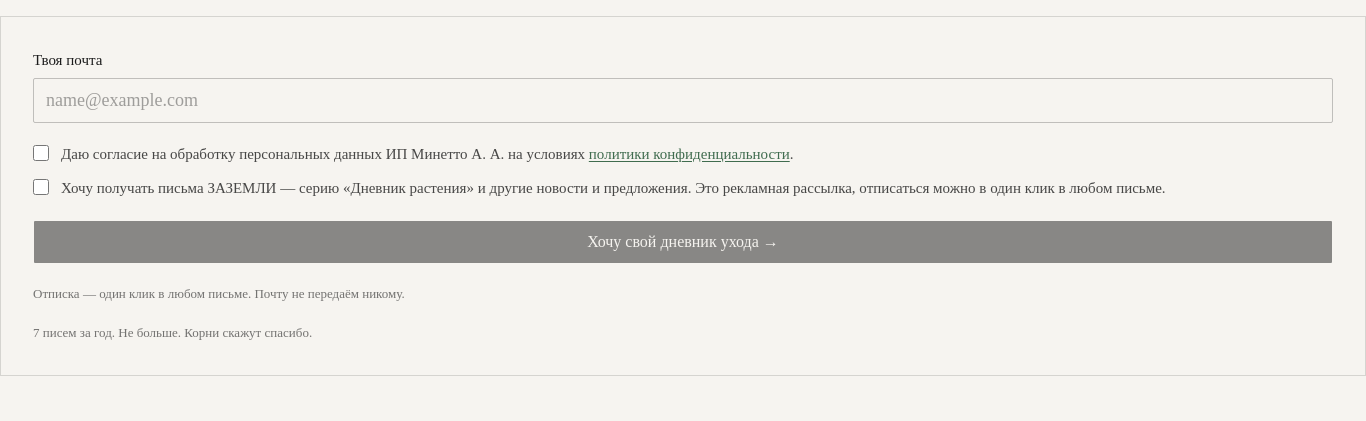
Scenario: SignupForm — валидация и согласия (task 2.2) › валидный email на blur → ok-микрокопи и aria-invalid=false
The width and height of the screenshot is (1366, 421).
Type "me@example.com" into the field labelled "Твоя почта" at (683, 100), box left=33, top=78, right=1333, bottom=122
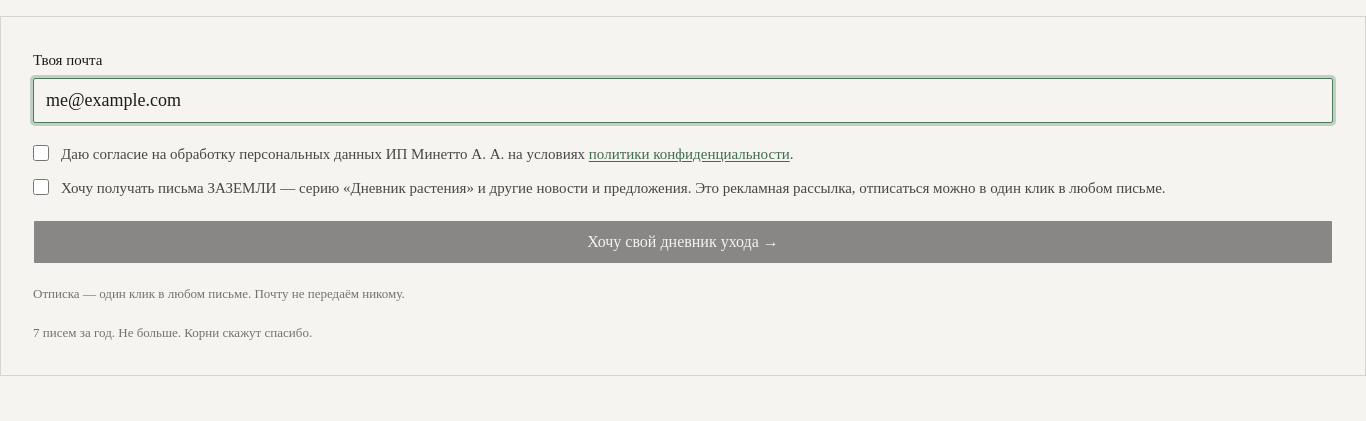
Press Tab
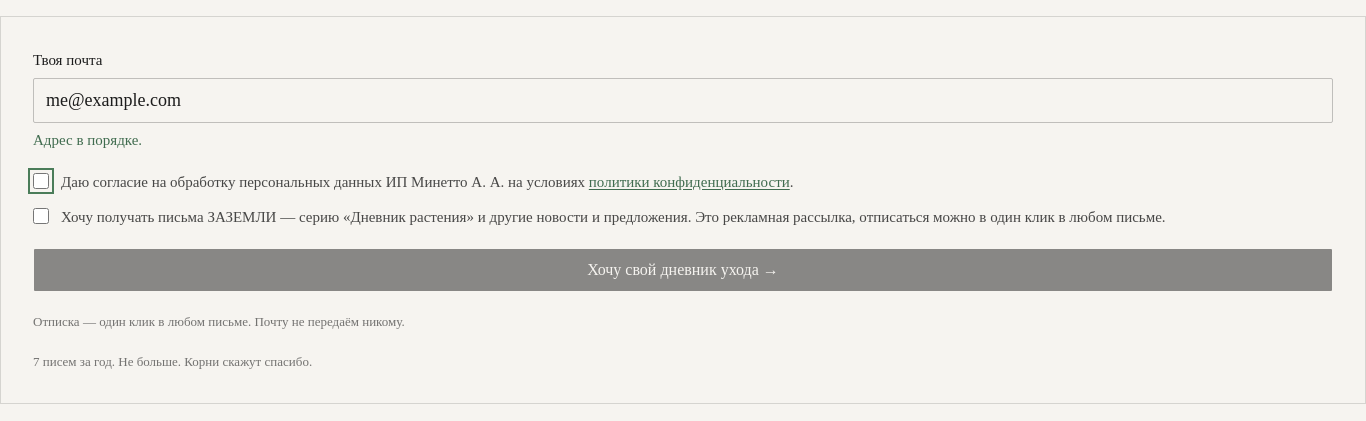
Check: the text "Адрес в порядке." is shown, box left=33, top=132, right=142, bottom=148
